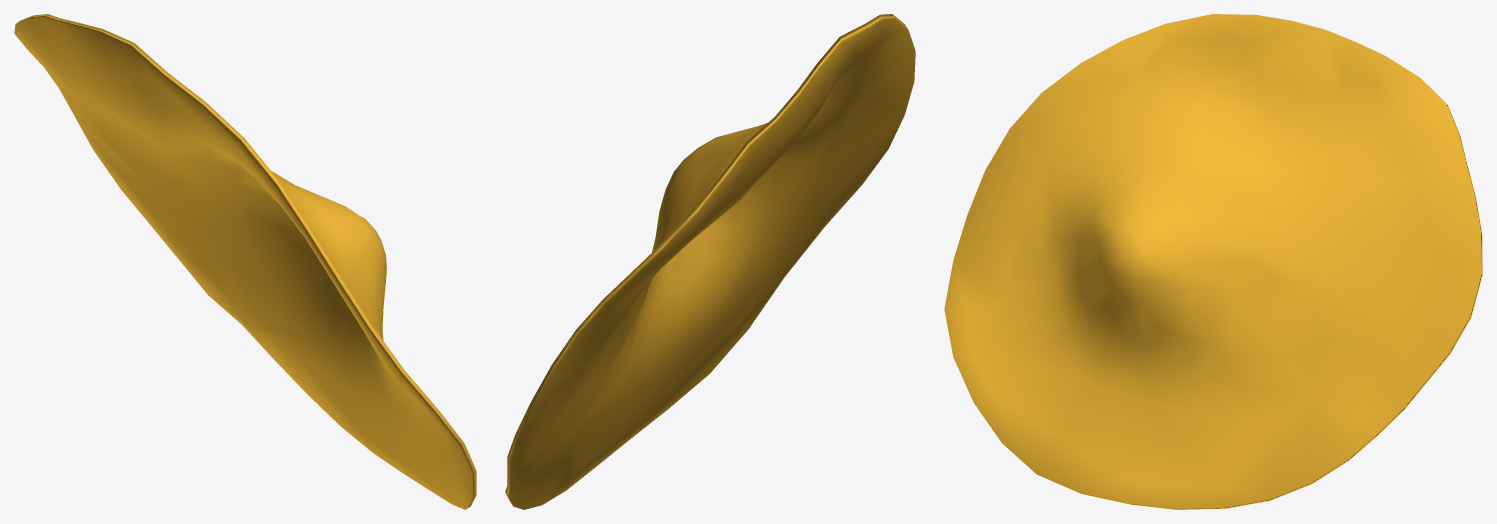
The model's file is nervoso-tympanic-membrane-r.glb.
3 renders of one model, left to right at view 1: azimuth 30°, elevation 25°; view 2: azimuth 150°, elevation 25°; view 3: azimuth 270°, elevation 25°, orthographic. The views are drawn at different scales.
Parts seen in each view (by area): view 1: Tympanic membrane.r; view 2: Tympanic membrane.r; view 3: Tympanic membrane.r.
Part boxes in pixels (x1,y1,x2,y2): Tympanic membrane.r: (14,14,476,509); Tympanic membrane.r: (505,14,915,509); Tympanic membrane.r: (944,14,1482,509).
Size of the model in its own units: 0.00497 by 0.0085 by 0.0105.
